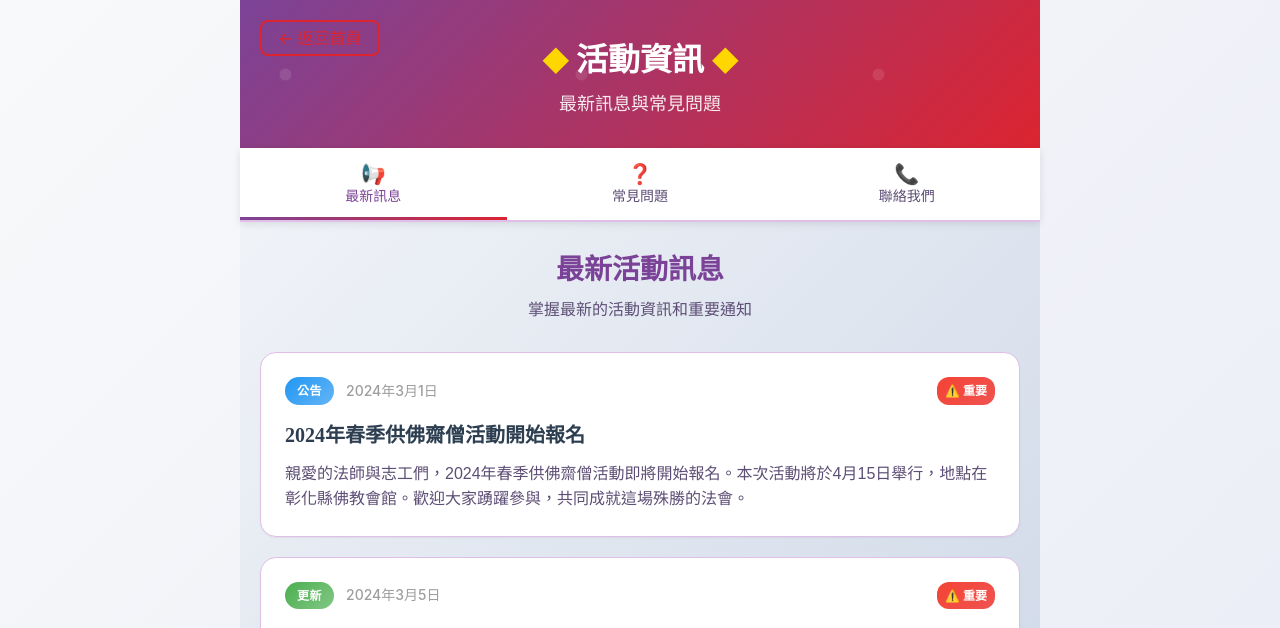
Scenario: InfoPage › 常見問題功能 › 應該能夠展開和收合FAQ項目
Click the tab "❓ 常見問題" at (640, 184), box [507, 148, 773, 220]
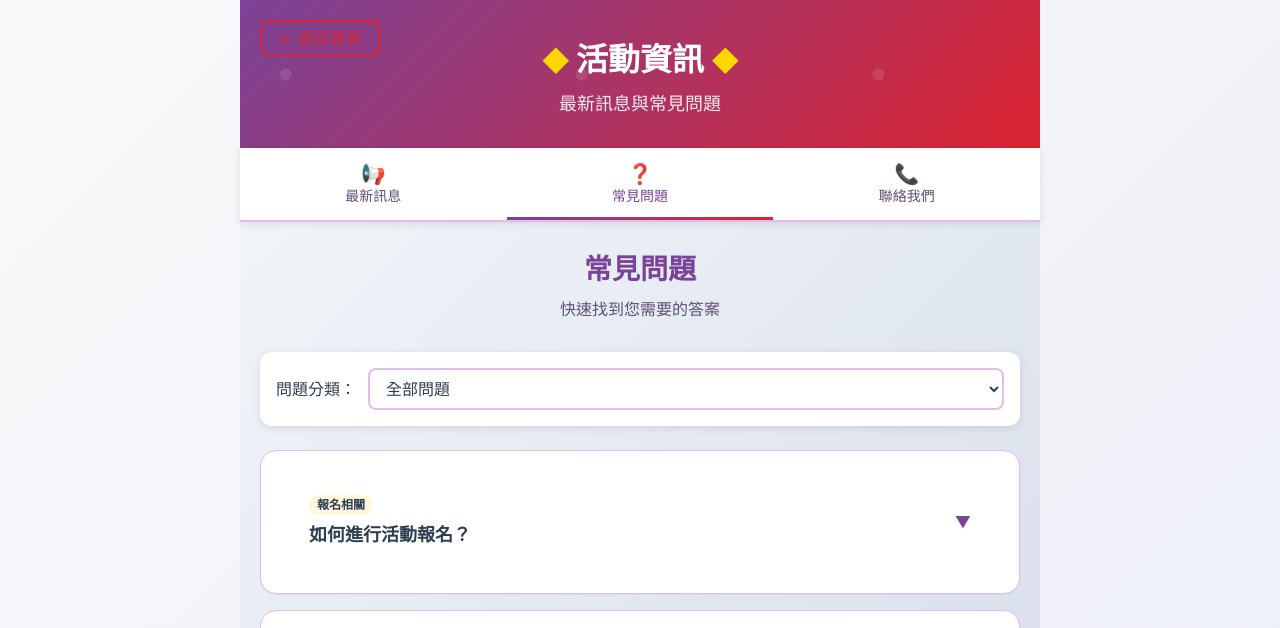
Click the heading "如何進行活動報名？" at (390, 535), box [309, 525, 471, 545]
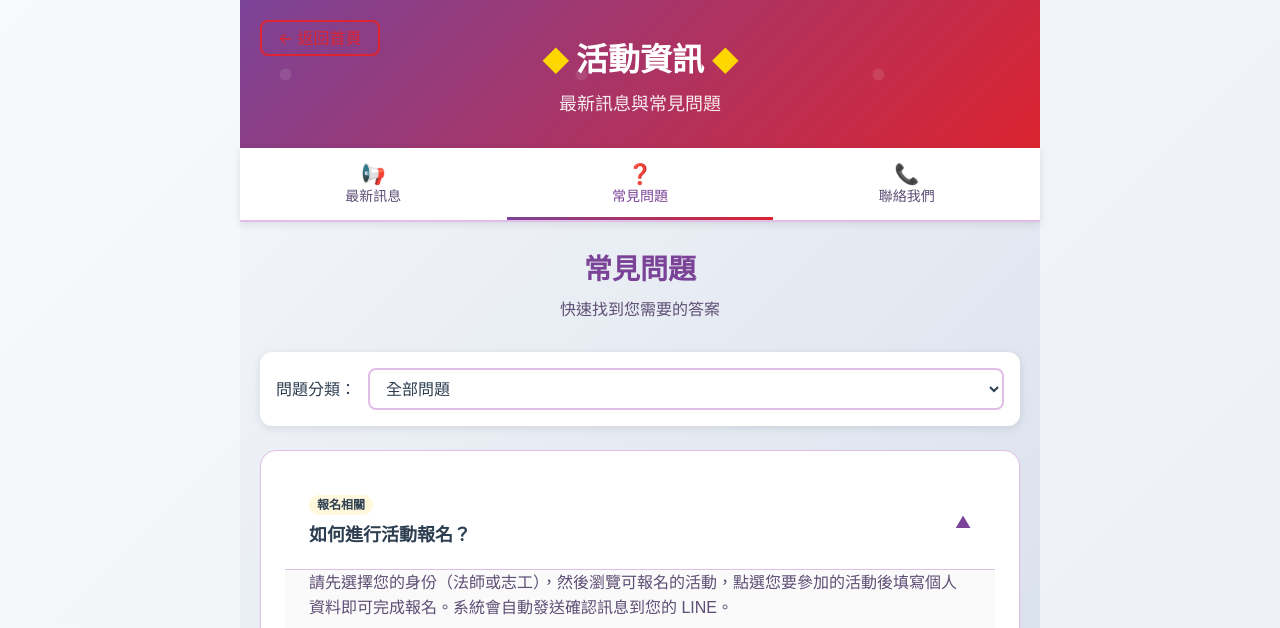
Expected: the text "請先選擇您的身份" is shown, [309, 574, 957, 616]
